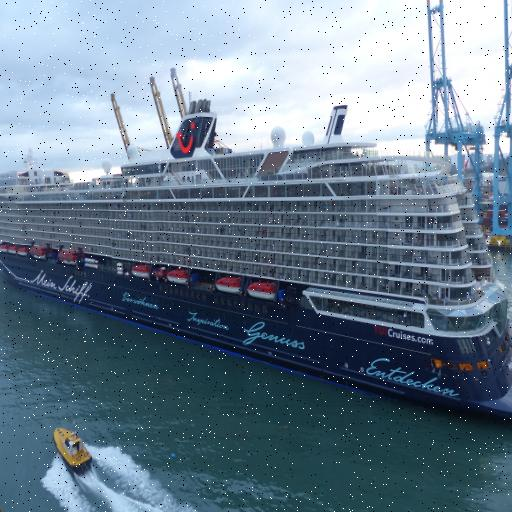cruises: (1, 97, 512, 424)
